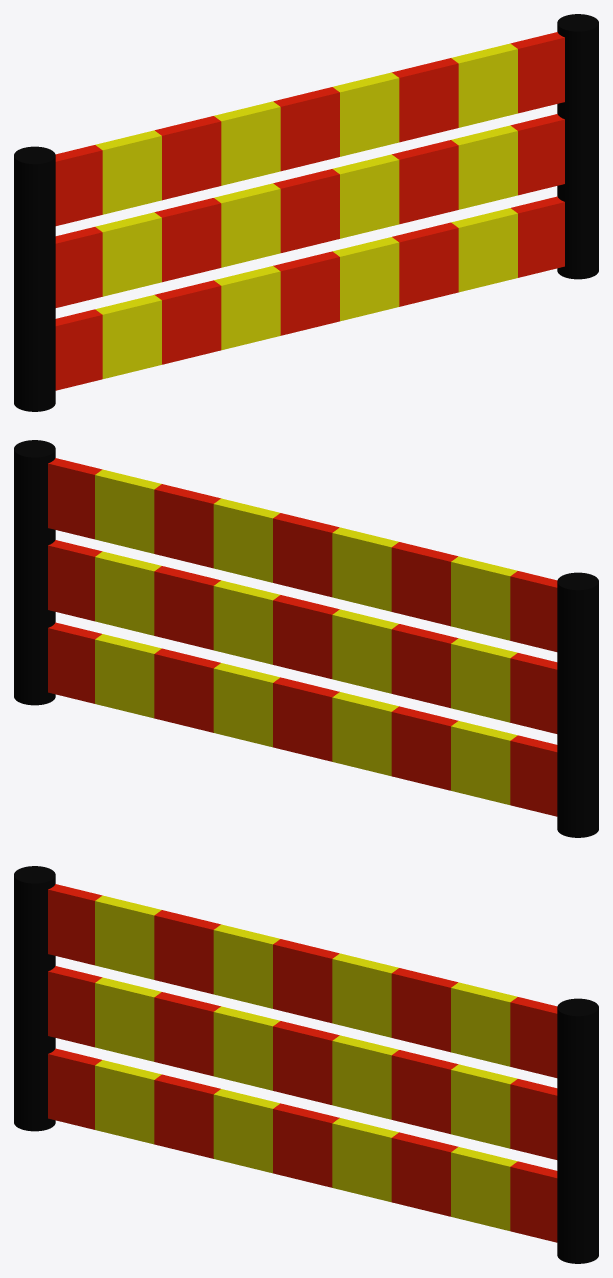
Rendered from lowerBlock.fbx.
3 renders of one model, top to bottom at view 1: azimuth 30°, elevation 25°; view 2: azimuth 150°, elevation 25°; view 3: azimuth 330°, elevation 25°, orthographic.
Parts seen in each view (by area): view 1: Cube, Cube.002, Cube.001, Cylinder; view 2: Cube, Cube.002, Cube.001, Cylinder; view 3: Cube, Cube.002, Cube.001, Cylinder.
Part boxes in pixels (box(x1,y1,x2,y2)): Cube: box(55, 114, 564, 307); Cube.002: box(55, 196, 564, 390); Cube.001: box(55, 32, 564, 225); Cylinder: box(14, 14, 598, 411); Cube: box(48, 540, 557, 733); Cube.002: box(48, 622, 557, 816); Cube.001: box(48, 458, 557, 651); Cylinder: box(14, 440, 598, 837); Cube: box(48, 966, 557, 1159); Cube.002: box(48, 1048, 557, 1242); Cube.001: box(48, 884, 557, 1077); Cylinder: box(14, 866, 598, 1263).
Bounding box in the file's own units: 361 × 147 × 22.5.
